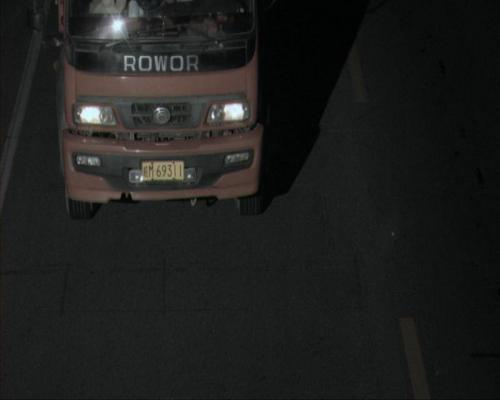Carplate: (137, 155, 189, 185)
